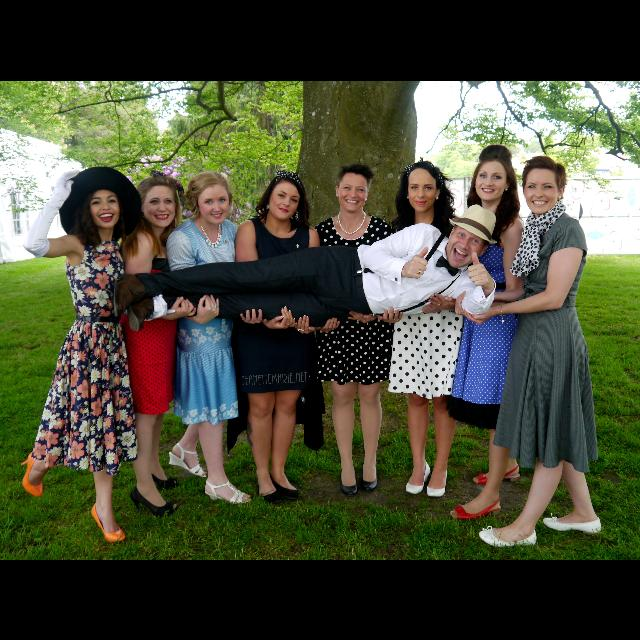head: (524, 161, 566, 215), (190, 170, 232, 224), (446, 218, 490, 268), (139, 178, 177, 226), (473, 155, 512, 201), (334, 166, 372, 212), (266, 172, 302, 220), (406, 165, 440, 211), (88, 184, 122, 228)
person: (19, 164, 179, 546), (453, 155, 603, 548), (112, 203, 498, 333), (426, 142, 526, 522), (165, 169, 265, 507), (232, 167, 324, 508), (376, 154, 466, 502), (312, 159, 400, 499), (115, 168, 198, 516)
